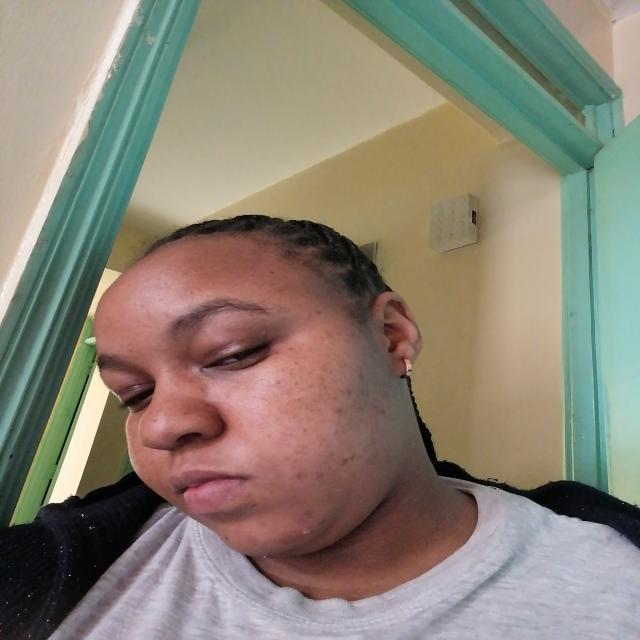Acne: (265, 376, 331, 420), (320, 296, 362, 350), (278, 506, 324, 545), (362, 400, 402, 442)
